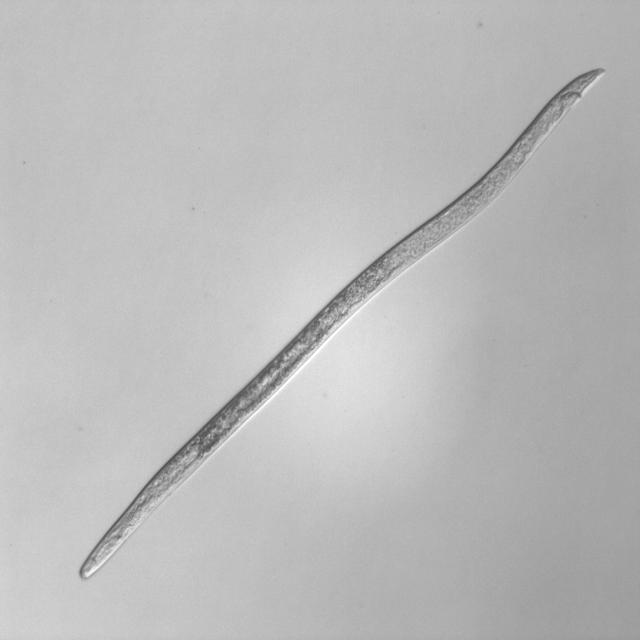Pratylenchus: (73, 59, 612, 580)
